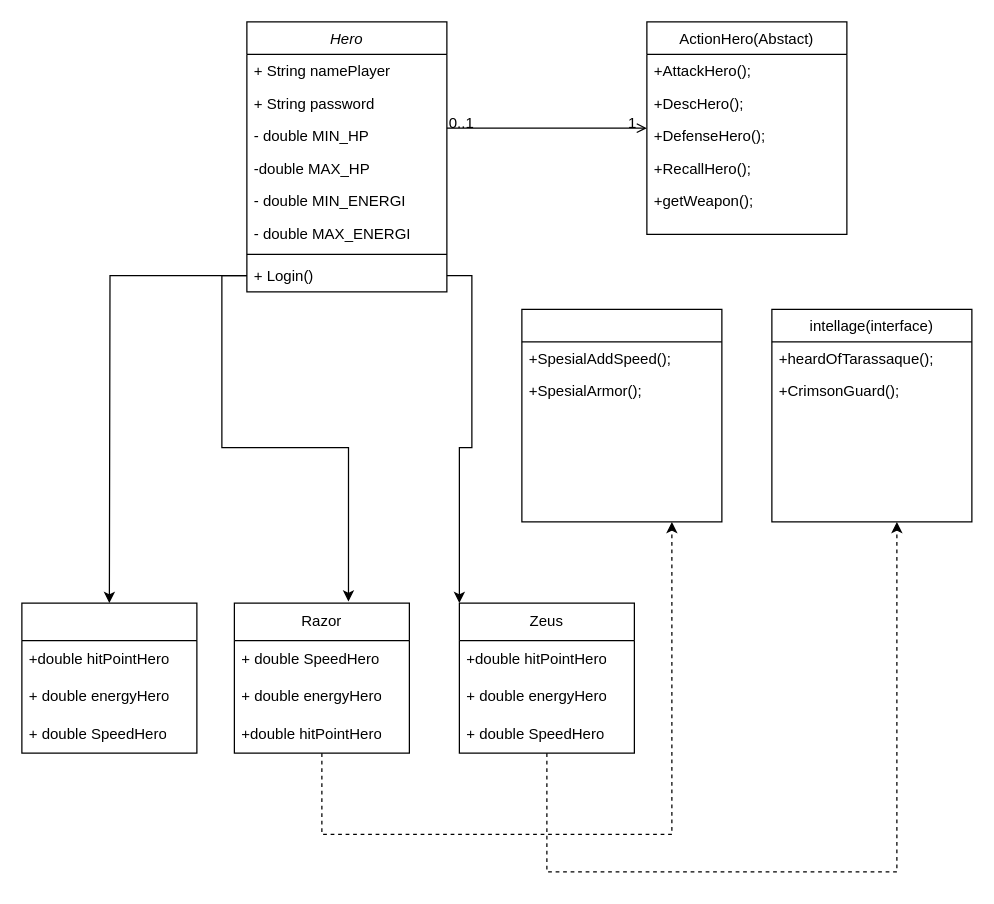
This 994x904 diagram has some shape labels left out. The box of each missing label's shape, as (x1, y1, x2, y2) in pixels:
Agilit(interface): (521, 308, 722, 522)
Pheonix: (21, 602, 197, 753)
